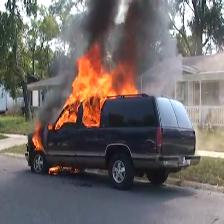fire: (60, 70, 100, 125), (103, 73, 138, 94), (35, 135, 43, 148)
smoke: (81, 1, 170, 71), (42, 95, 58, 124)
